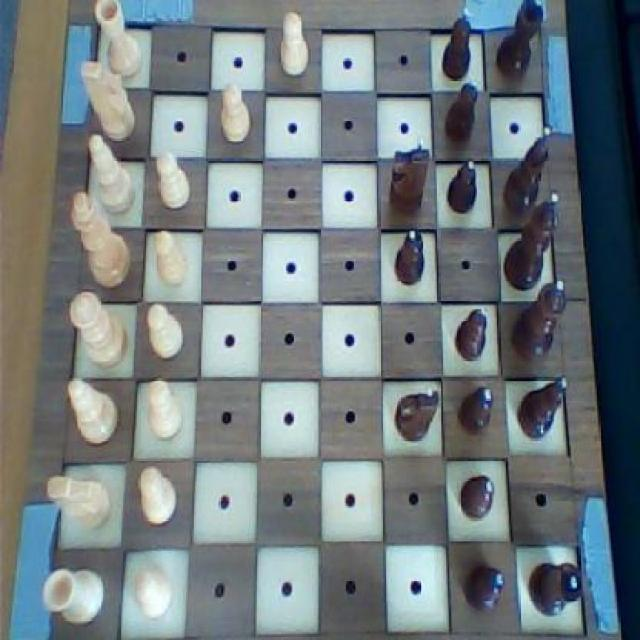bishop: (498, 122, 554, 220), (514, 371, 569, 446)
black-bishop: (501, 192, 564, 291)
black-king: (384, 134, 432, 218), (392, 378, 440, 448)
black-knight: (438, 5, 474, 84), (460, 556, 509, 614), (456, 383, 496, 443), (443, 82, 479, 148), (452, 306, 491, 366), (455, 471, 497, 526), (391, 226, 426, 291), (443, 157, 481, 216)
black-pawn: (508, 278, 569, 364)
black-queen: (490, 0, 548, 83), (524, 557, 584, 618)
black-rook: (83, 133, 138, 214), (65, 374, 122, 448)
white-bishop: (65, 188, 133, 292)
white-king: (78, 57, 140, 144), (42, 469, 113, 538)
white-knight: (140, 374, 185, 441), (271, 6, 312, 79), (136, 462, 180, 528), (151, 145, 192, 213), (215, 77, 253, 148), (151, 226, 192, 290), (129, 560, 174, 618), (144, 302, 183, 363)
white-pawn: (66, 286, 132, 375)
white-queen: (91, 0, 145, 81), (42, 561, 106, 627)
